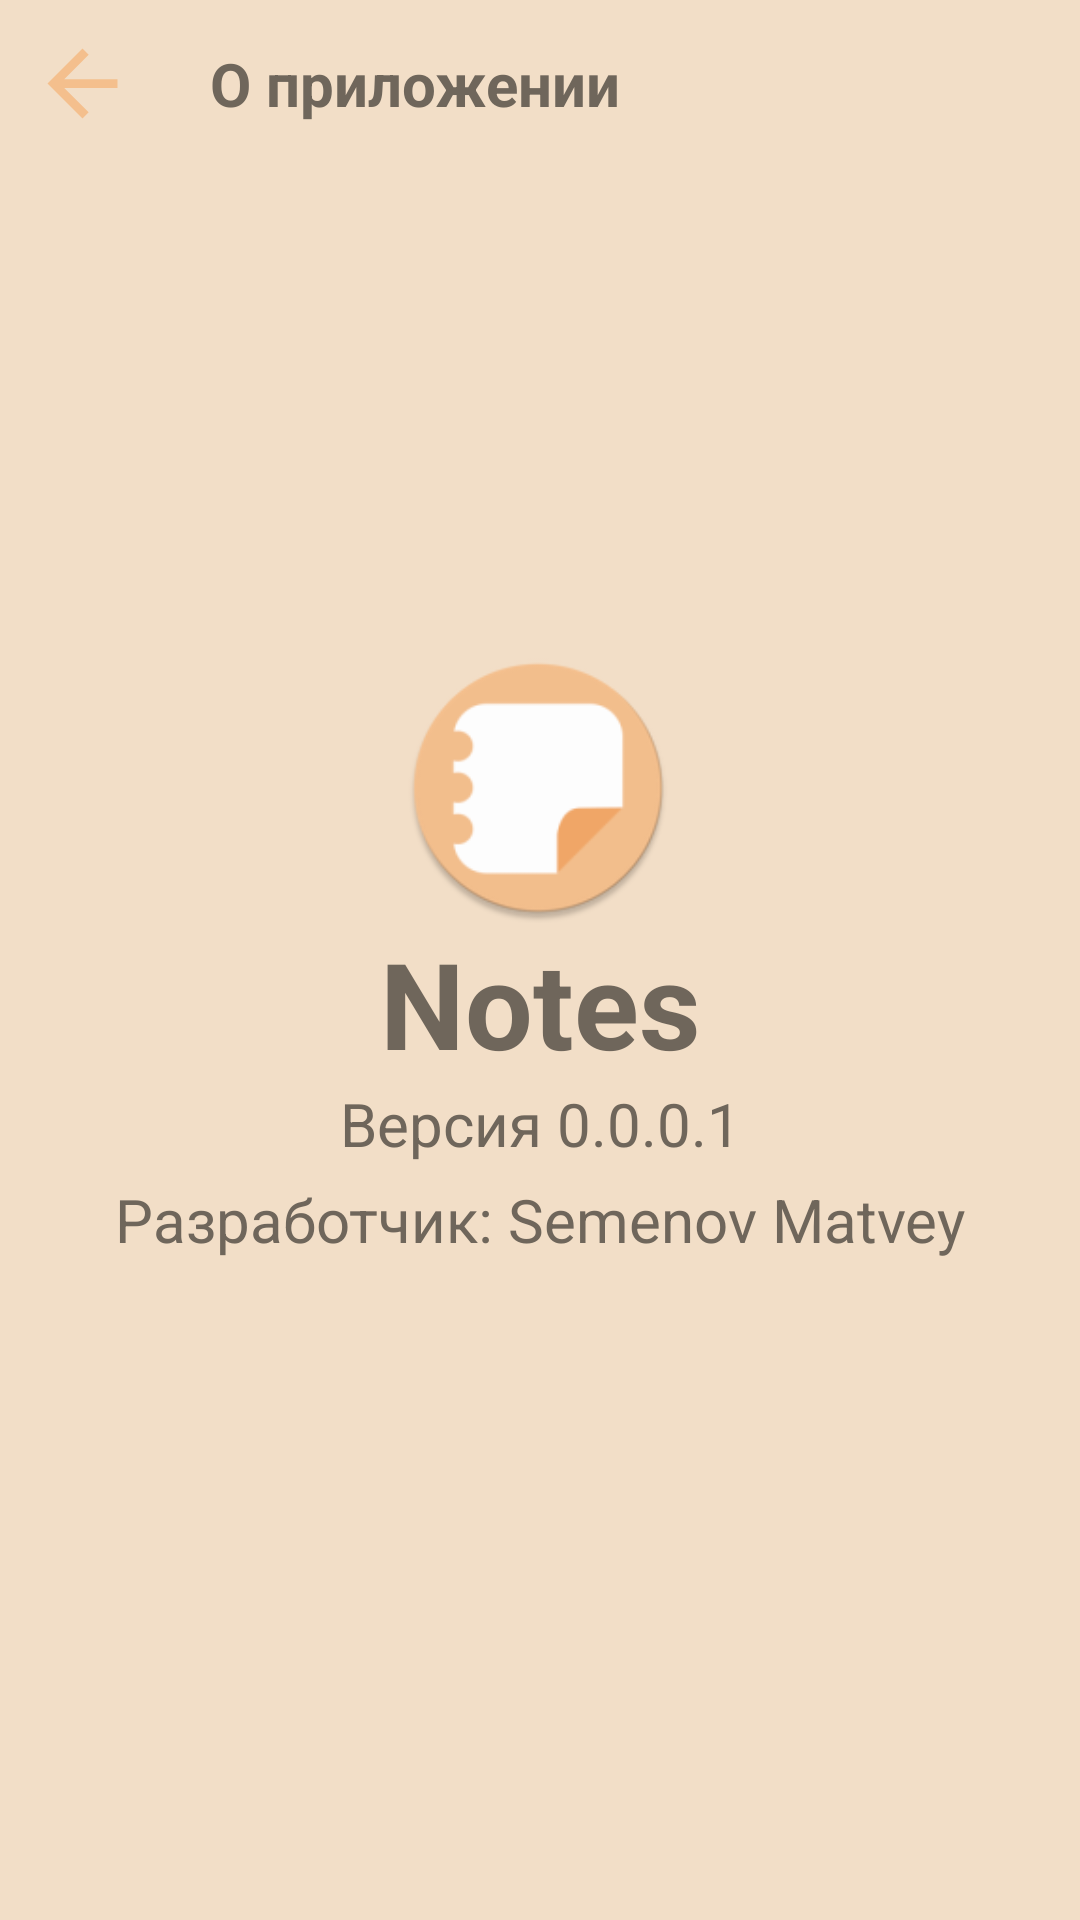

Where to tap for icons on this 1080px x 1920px app screen, as [x,y]:
back: [83,83]
